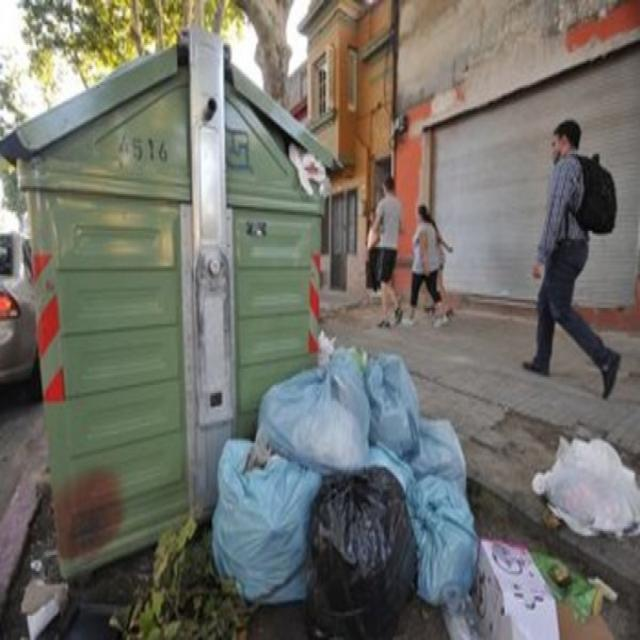garbage: (205, 332, 478, 638), (478, 528, 619, 640), (529, 422, 640, 542), (11, 560, 88, 638), (282, 128, 344, 196)
